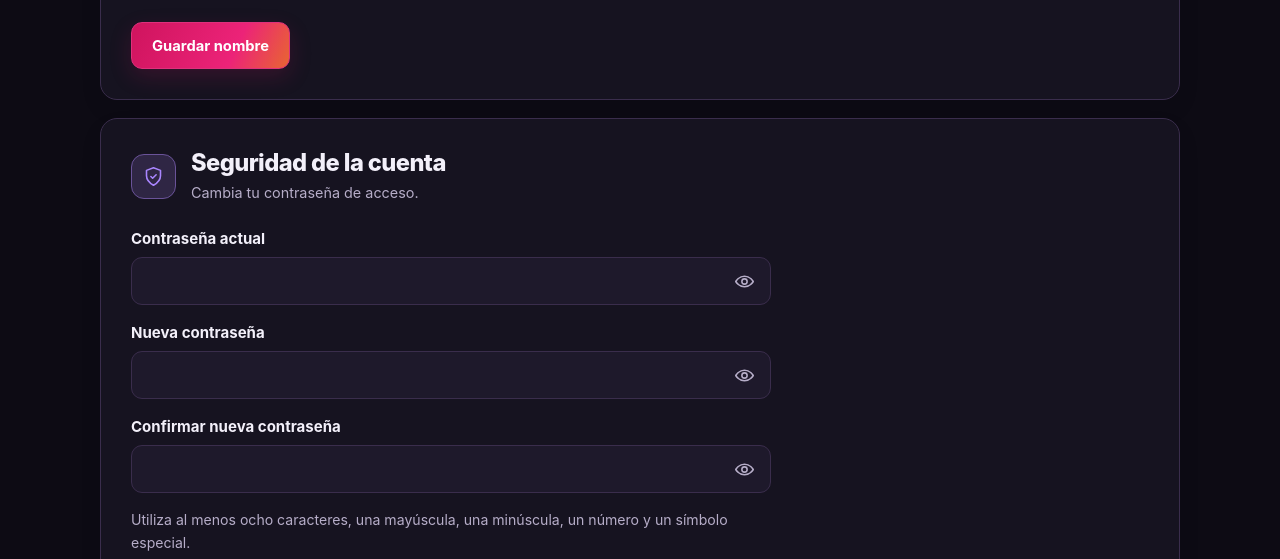
Test: Perfil de MateCode › rechaza contraseñas cuya confirmación no coincide
(page scrolled)
Type "Actual123!" into the password field labelled "Contraseña actual" at (451, 281), box x1=131 y1=257 x2=771 y2=305
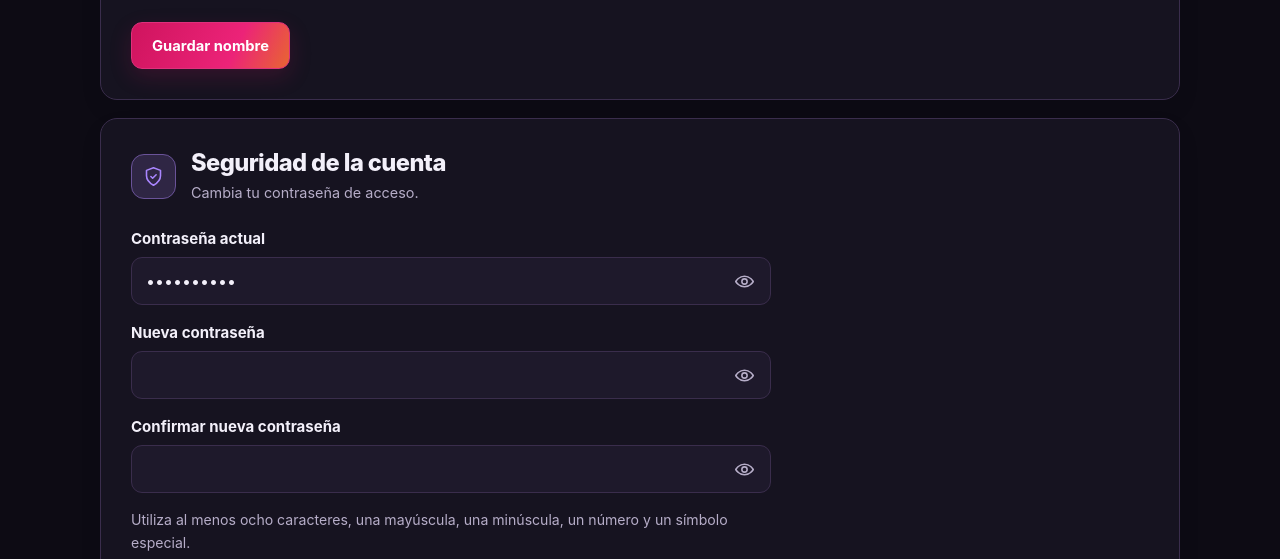
Type "Nueva123!" into the password field labelled "Nueva contraseña" at (451, 375), box x1=131 y1=351 x2=771 y2=399
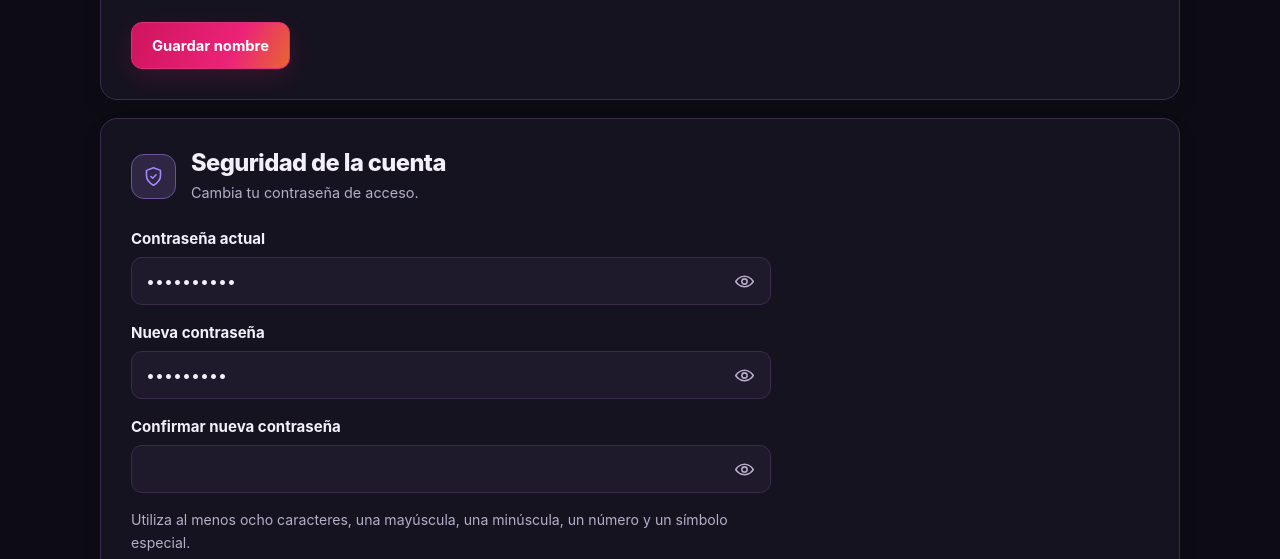
Type "Diferente123!" into the password field labelled "Confirmar nueva contraseña" at (451, 469), box x1=131 y1=445 x2=771 y2=493
(page scrolled)
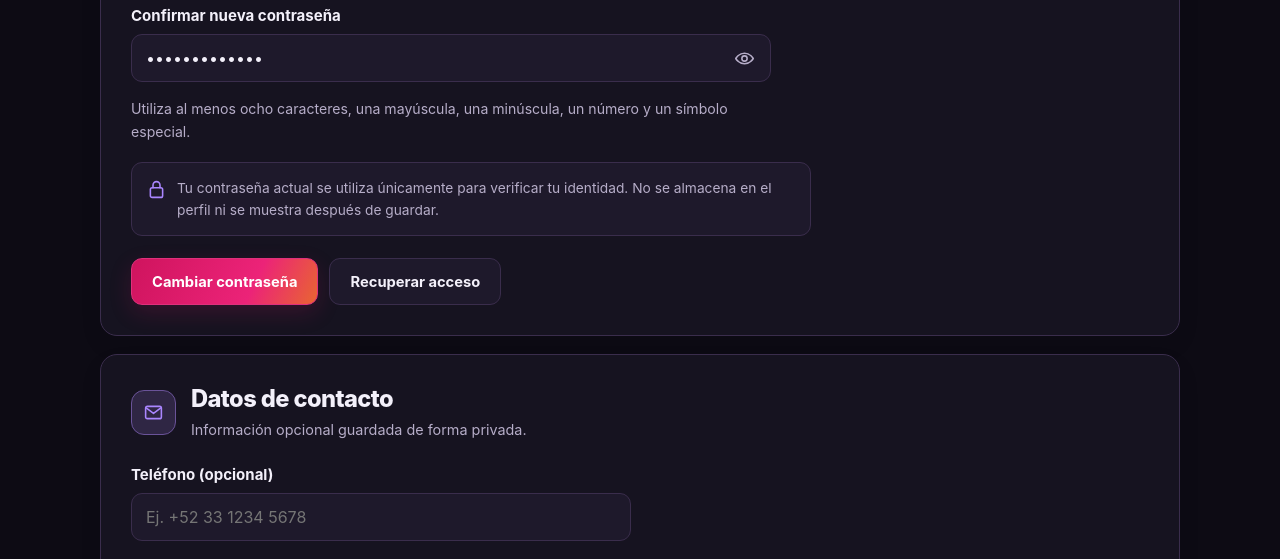
Click the button "Cambiar contraseña" at (225, 282), box x1=131 y1=258 x2=318 y2=305
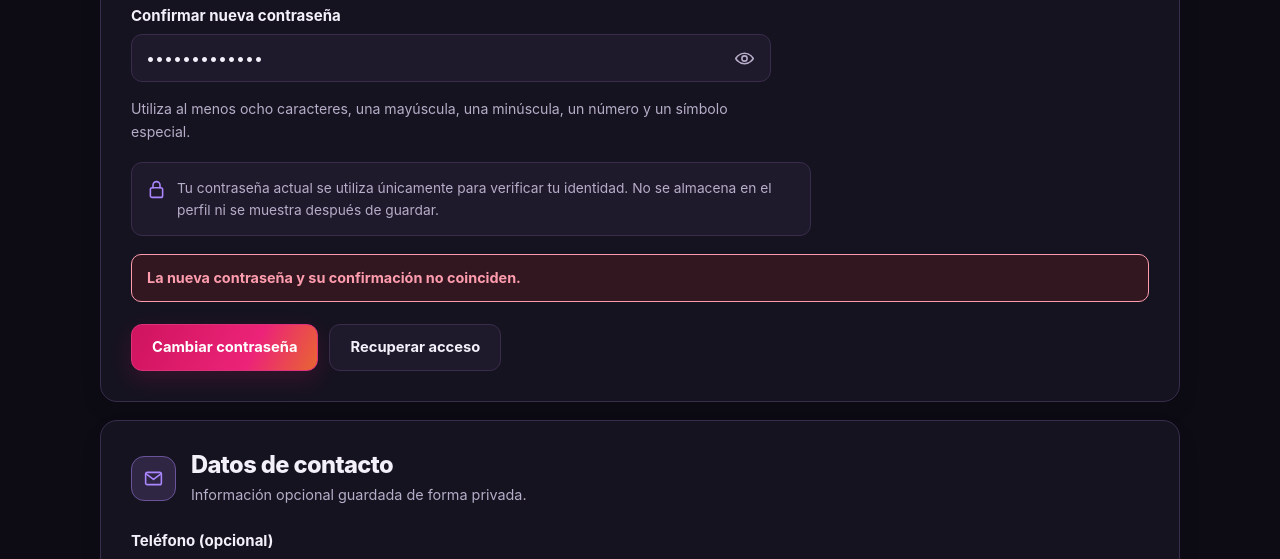
expect the message reads "La nueva contraseña y su confirmación no coinciden.": met, box x1=147 y1=269 x2=521 y2=286
